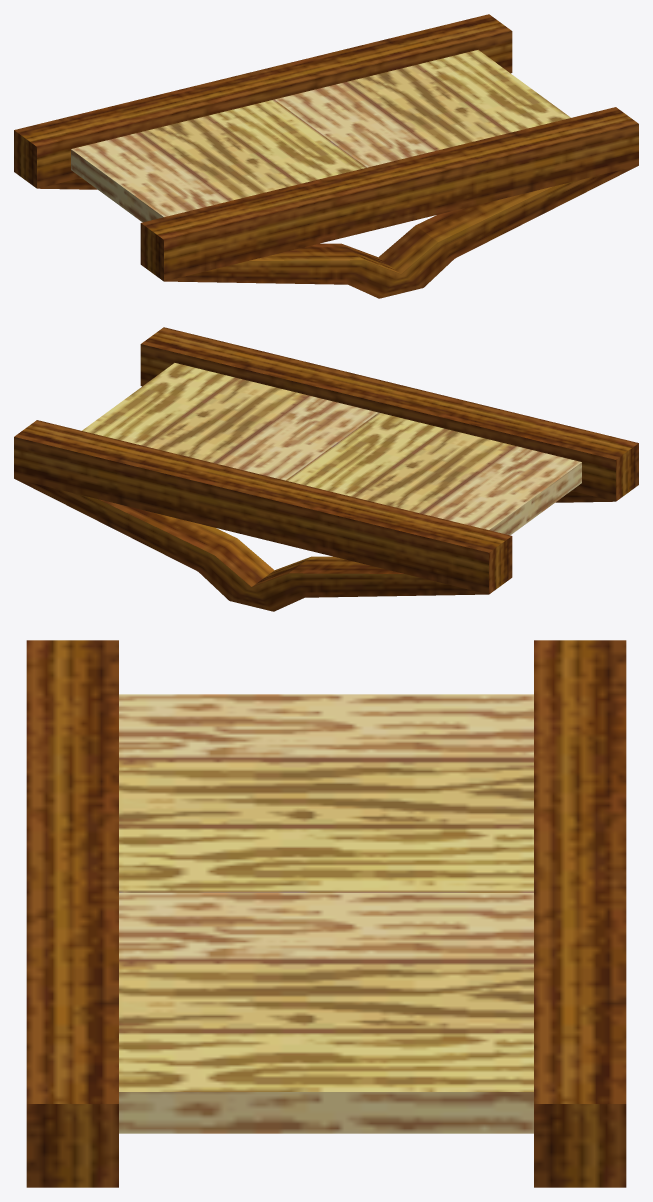
File: bigwindmillblock_bake.dae
3 renders of one model, top to bottom at view 1: azimuth 30°, elevation 25°; view 2: azimuth 150°, elevation 25°; view 3: azimuth 270°, elevation 25°, orthographic. The views are drawn at different scales.
Visible parts, largest first — view 1: m0; view 2: m0; view 3: m0.
Part boxes in pixels (bbox=[...]): m0: bbox=[14, 14, 638, 298]; m0: bbox=[14, 327, 638, 611]; m0: bbox=[26, 640, 626, 1187].
Size of the model in its own units: 476 by 107 by 260.
2 materials, 2 textured.
